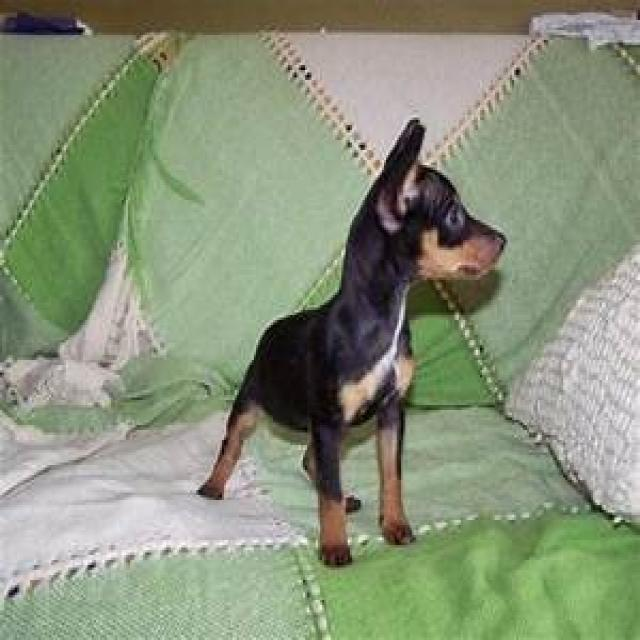dog: (196, 120, 508, 570)
